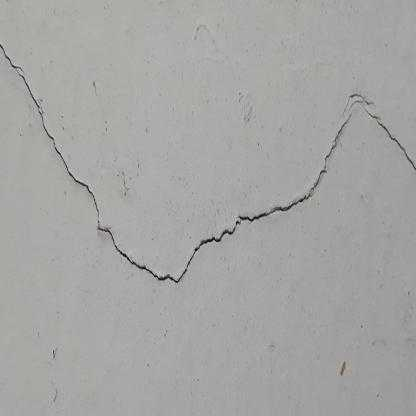crack: (0, 41, 416, 285)
